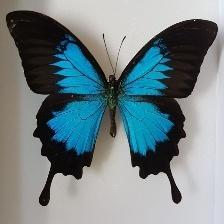butterfly: (6, 11, 218, 206)
